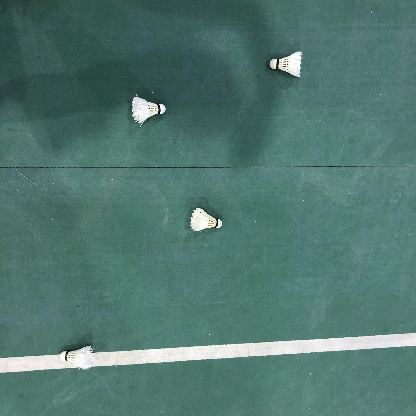ball_single: (131, 97, 165, 123), (269, 51, 302, 77), (60, 346, 94, 369), (190, 208, 222, 231)
